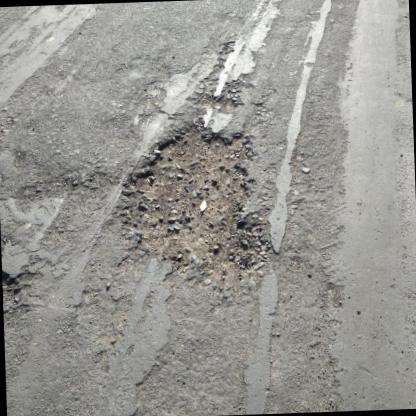pothole: (115, 119, 274, 293)
